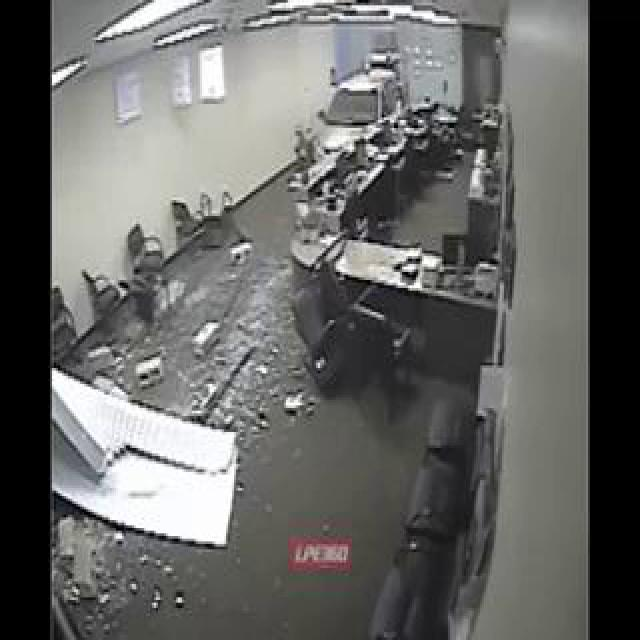burglary: (157, 58, 415, 566)
